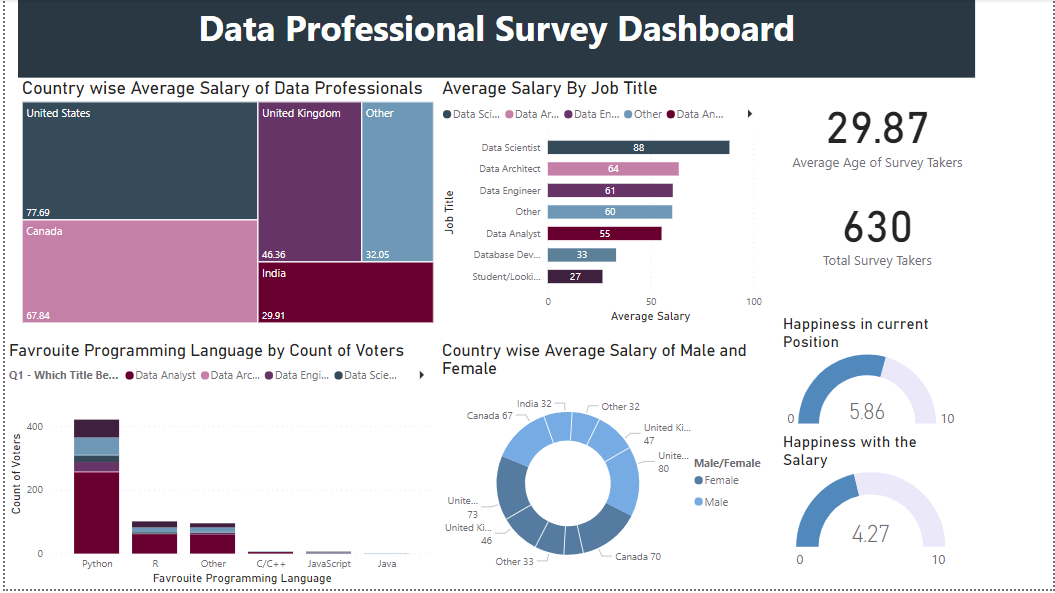

What the dashboard file says about the page in this screenshot:
{"tool":"powerbi","page":{"name":"PowerBI Portfolio Project","canvas":[1280,720],"ordinal":0},"visuals":[{"type":"textbox","box":[16,0,1168,96],"z":0},{"type":"card","fields":{"Values":["Count(Data Professional Survey.Unique ID)"]},"box":[976,256,208,112],"z":1000},{"type":"card","fields":{"Values":["Avg(Data Professional Survey.Q10 - Current Age)"]},"box":[976,112,208,128],"z":2000},{"type":"barChart","title":"Average Salary By Job Title","fields":{"Category":["Data Professional Survey.Q1 - Which Title Best Fits your Current Role?.1"],"Y":["Avg(Data Professional Survey.Average Salary)"],"Series":["Data Professional Survey.Q1 - Which Title Best Fits your Current Role?.1"]},"box":[560,112,400,288],"z":3000},{"type":"columnChart","title":"Favrouite Programming Language by Count of Voters","fields":{"Category":["Data Professional Survey.Q5 - Favorite Programming Language.1"],"Y":["Count(Data Professional Survey.Unique ID)"],"Series":["Data Professional Survey.Q1 - Which Title Best Fits your Current Role?.1"]},"box":[16,416,512,272],"z":4000},{"type":"treemap","title":"Country wise Average Salary of Data Professionals","fields":{"Group":["Data Professional Survey.Q11 - Which Country do you live in?.1"],"Values":["Avg(Data Professional Survey.Average Salary)"]},"box":[16,112,512,288],"z":5000},{"type":"gauge","title":"Happiness with the Salary","fields":{"Y":["Avg(Data Professional Survey.Q6 - How Happy are you in your Current Position with the following? (Salary))"],"MaxValue":["Max(Data Professional Survey.Q6 - How Happy are you in your Current Position with the following? (Salary))"],"MinValue":["Min(Data Professional Survey.Q6 - How Happy are you in your Current Position with the following? (Salary))"]},"box":[976,544,208,144],"z":6000},{"type":"gauge","title":"Happiness in current Position","fields":{"Y":["Avg(Data Professional Survey.Q6 - How Happy are you in your Current Position with the following? (Coworkers))"],"MinValue":["Min(Data Professional Survey.Q6 - How Happy are you in your Current Position with the following? (Coworkers))1"],"MaxValue":["Max(Data Professional Survey.Q6 - How Happy are you in your Current Position with the following? (Coworkers))2"]},"box":[976,384,208,144],"z":7000},{"type":"donutChart","title":"Country wise Average Salary of Male and Female","fields":{"Category":["Data Professional Survey.Q9 - Male/Female?"],"Y":["Avg(Data Professional Survey.Average Salary)"],"Series":["Data Professional Survey.Q11 - Which Country do you live in?.1"]},"box":[560,416,400,272],"z":8000}]}

Visuals, with their boxes in screenshot pixels (x1, y1, x2, y2), scaled from the page's 1280x720 canvas onto the 1055x593 screenshot:
textbox: {"x1": 13, "y1": 0, "x2": 976, "y2": 79}
card - Count(Data Professional Survey.Unique ID): {"x1": 804, "y1": 211, "x2": 976, "y2": 303}
card - Avg(Data Professional Survey.Q10 - Current Age): {"x1": 804, "y1": 92, "x2": 976, "y2": 198}
"Average Salary By Job Title" barChart: {"x1": 462, "y1": 92, "x2": 791, "y2": 329}
"Favrouite Programming Language by Count of Voters" columnChart: {"x1": 13, "y1": 343, "x2": 435, "y2": 567}
"Country wise Average Salary of Data Professionals" treemap: {"x1": 13, "y1": 92, "x2": 435, "y2": 329}
"Happiness with the Salary" gauge: {"x1": 804, "y1": 448, "x2": 976, "y2": 567}
"Happiness in current Position" gauge: {"x1": 804, "y1": 316, "x2": 976, "y2": 435}
"Country wise Average Salary of Male and Female" donutChart: {"x1": 462, "y1": 343, "x2": 791, "y2": 567}
